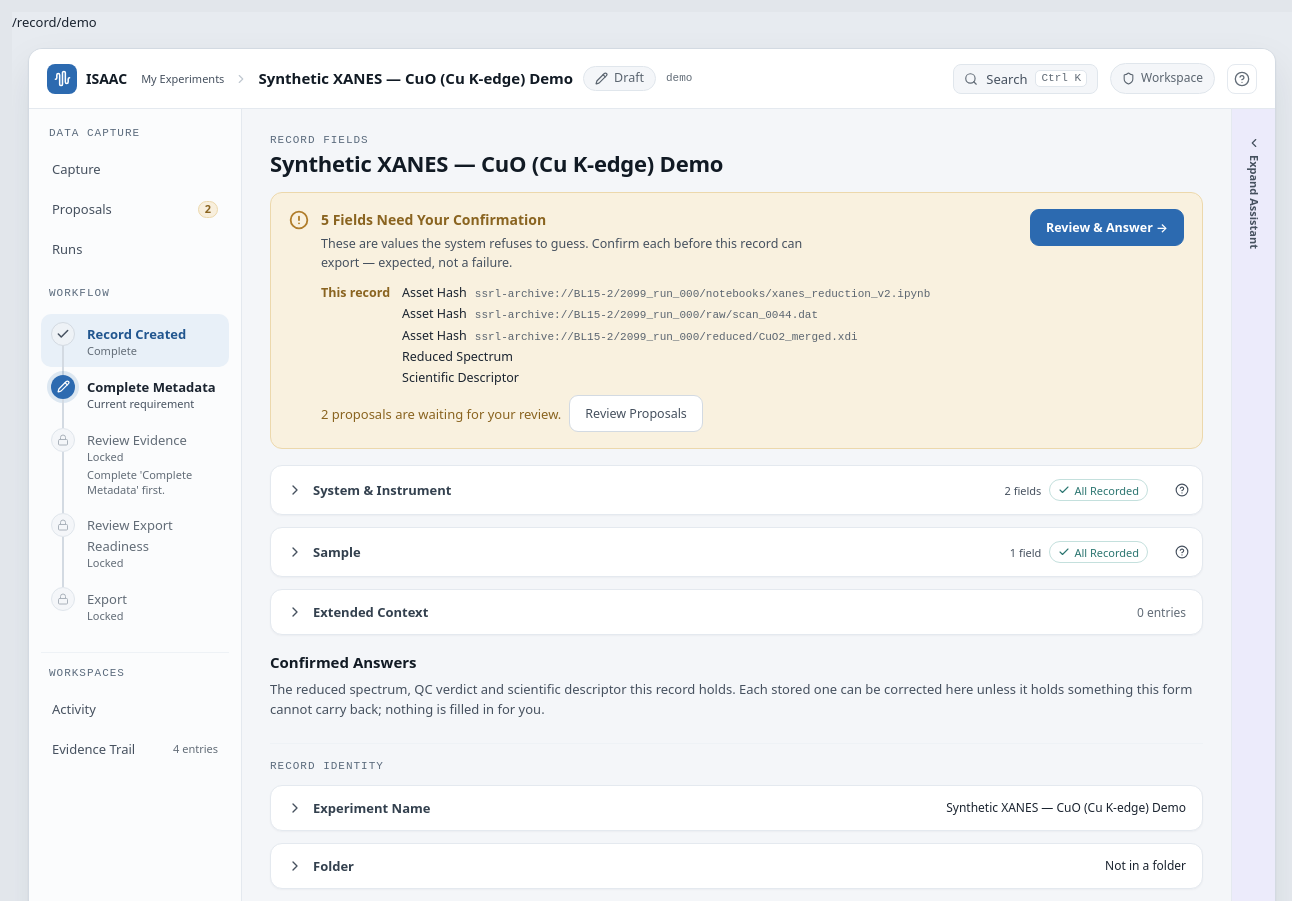
Test: the needs-you banner names waiting proposals (QA C-24) › says how many proposals wait, from the server’s count, and opens Proposals
Expected: the text "5 Fields Need Your Confirmation" is shown, top-left (321, 210), bottom-right (546, 229)
Expected: the text "2 proposals are waiting for your review" is shown, top-left (321, 405), bottom-right (561, 423)
Step 1. Click the button "Review Proposals" → (636, 414), box top-left (569, 395), bottom-right (703, 432)
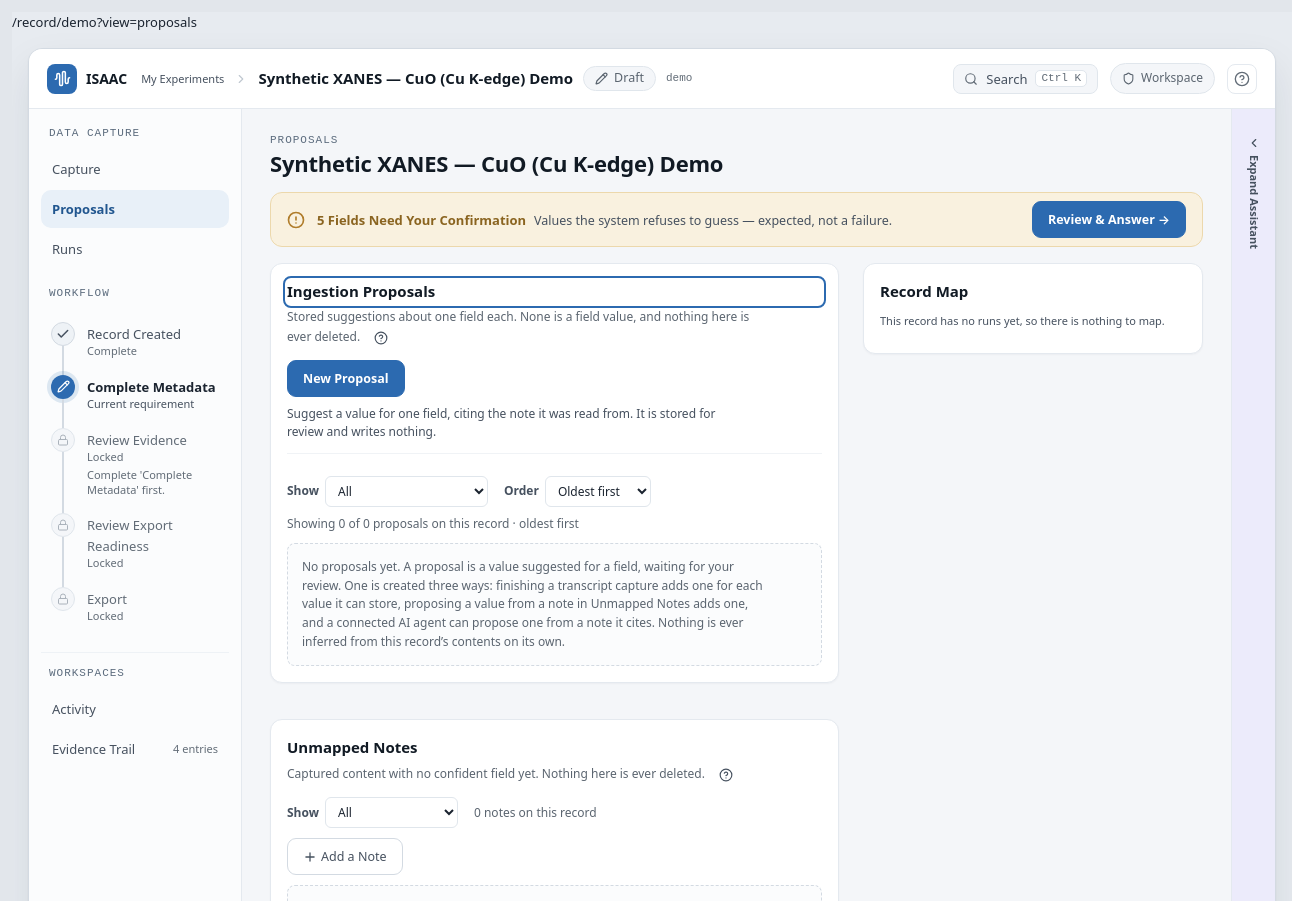
Expected: the text with test id "address" shows "view=proposals", top-left (12, 13), bottom-right (197, 31)
